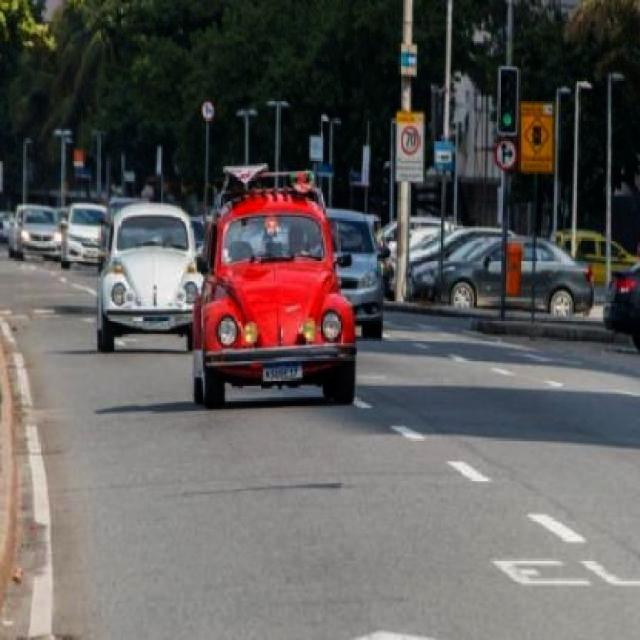car: (193, 182, 356, 408), (92, 195, 205, 343), (15, 199, 61, 264), (62, 203, 110, 263)
